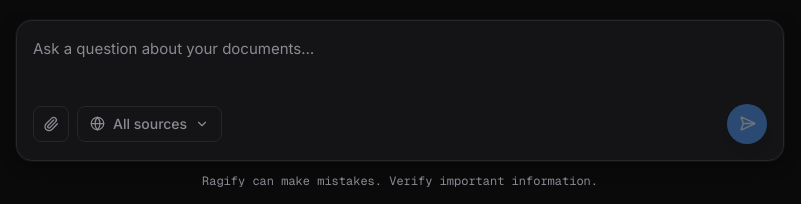
Test case: ChatInput › picker asks the server for COMPLETED docs, scoped by status
Click the button "All sources" at (150, 124), box [77,106,222,142]
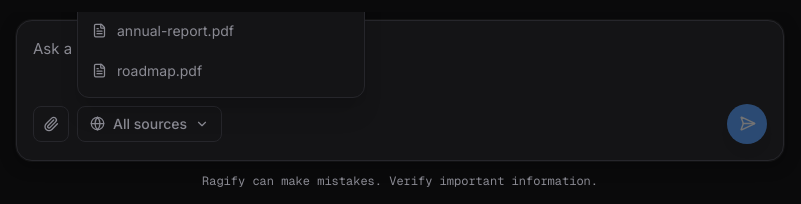
Check: the text "annual-report.pdf" is shown, box [117,21,234,41]
Check: the text "roadmap.pdf" is shown, box [117,61,202,81]
Check: the number of options is 3
